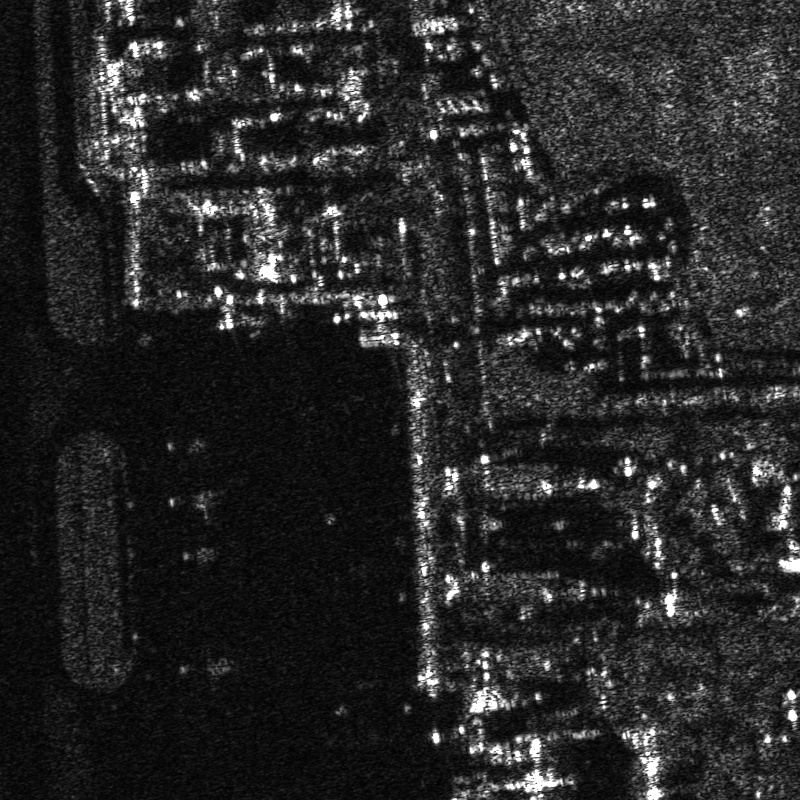ARJ21: (160, 478, 228, 522), (171, 533, 227, 572)
other: (150, 423, 217, 465), (177, 643, 240, 685)
